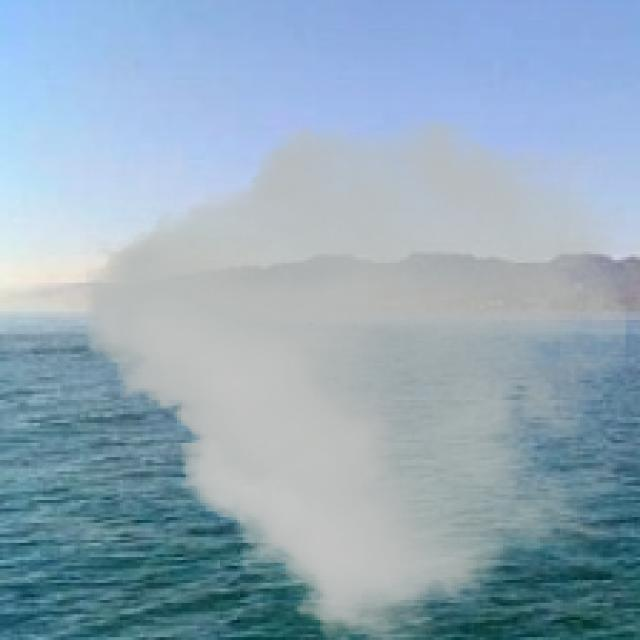Smoke: (86, 117, 628, 637)
